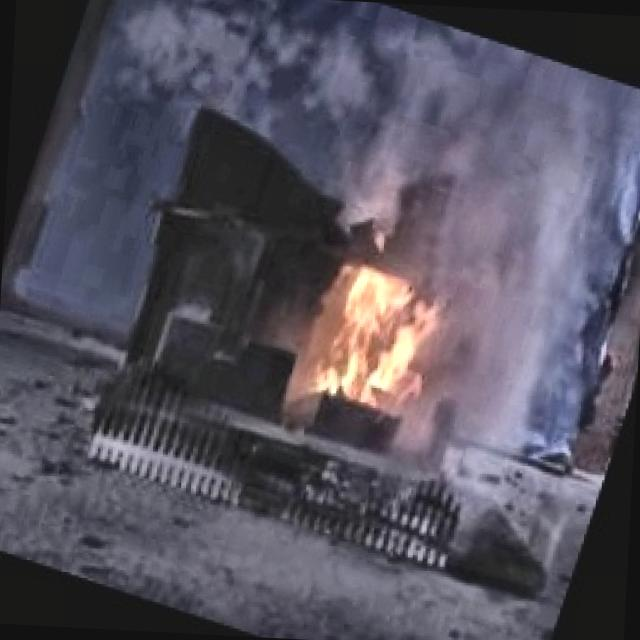fire: (257, 214, 474, 454)
